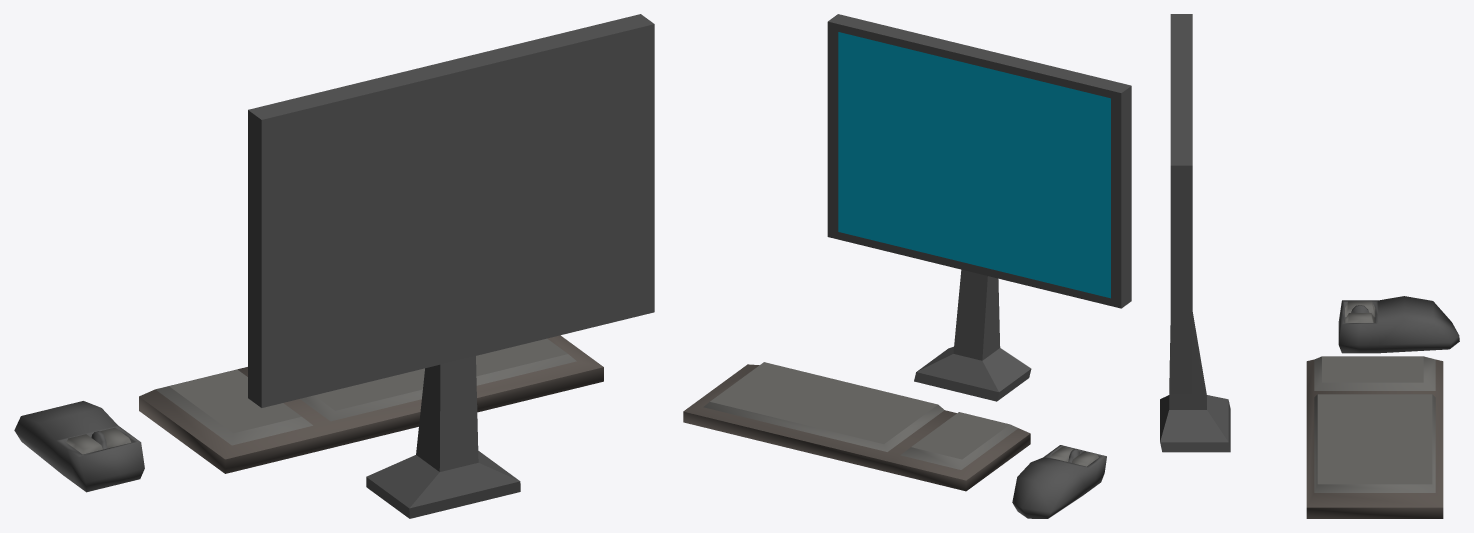
3 renders of one model, left to right at view 1: azimuth 30°, elevation 25°; view 2: azimuth 150°, elevation 25°; view 3: azimuth 270°, elevation 25°, orthographic. The views are drawn at different scales.
Visible parts, largest first — view 1: mesh_Moniter, mesh_Keyboard.001, mesh_Mouse; view 2: mesh_Moniter, mesh_Keyboard.001, mesh_Mouse; view 3: mesh_Keyboard.001, mesh_Moniter, mesh_Mouse.
Boxes of the visible parts, bbox=[...] form: mesh_Moniter: bbox=[248, 14, 654, 518]; mesh_Keyboard.001: bbox=[139, 335, 603, 473]; mesh_Mouse: bbox=[14, 401, 144, 492]; mesh_Moniter: bbox=[827, 14, 1131, 401]; mesh_Keyboard.001: bbox=[683, 362, 1030, 491]; mesh_Mouse: bbox=[1012, 445, 1106, 518]; mesh_Keyboard.001: bbox=[1306, 356, 1443, 518]; mesh_Moniter: bbox=[1160, 14, 1230, 452]; mesh_Mouse: bbox=[1338, 296, 1459, 353].
Bounding box in the file's own units: 71.23 × 58.86 × 46.43.
